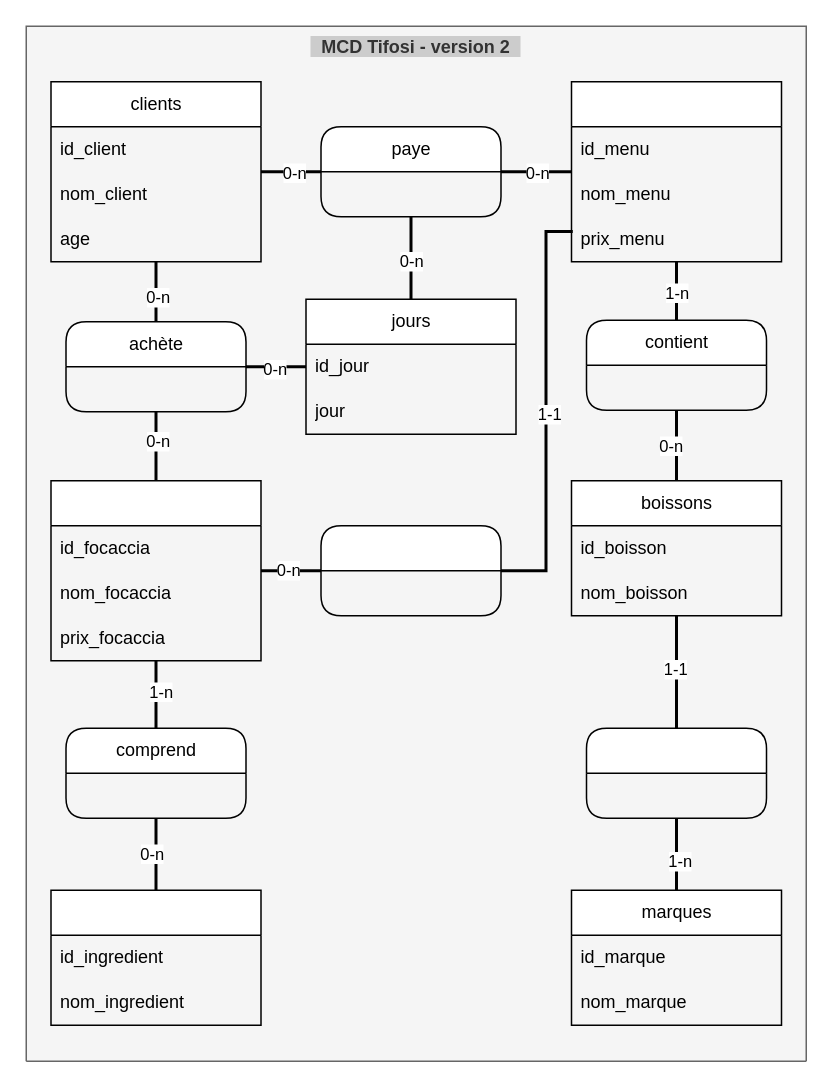
The diagram is 833 pixels wide and 1088 high, and some of its shapes have lost their labels. Each missing label, with the box of its shape:
appartient: (585, 727, 766, 818)
est constitué: (320, 524, 501, 616)
focaccias: (50, 479, 261, 661)
ingredients: (50, 889, 261, 1025)
menus: (570, 80, 782, 262)
